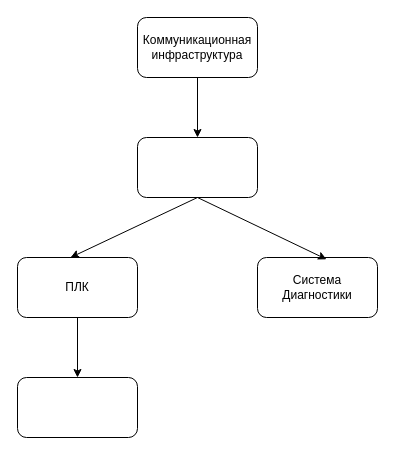
The diagram is 395 pixels wide and 455 high, and some of its shapes have lost their labels. Each missing label, with the centre of its shape:
АСУ ТЭЦ: the point at 197,167
Конечное оборудование: the point at 77,407
